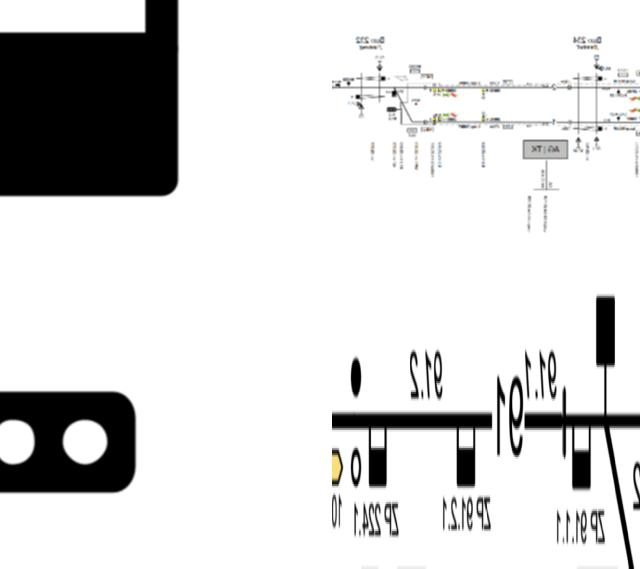mainsignal: (386, 106, 402, 112)
radzaehler: (0, 0, 203, 204), (486, 368, 527, 473), (452, 399, 478, 497), (570, 402, 594, 494), (366, 403, 389, 497), (336, 84, 340, 88)
trackjoint: (422, 85, 428, 91), (567, 84, 571, 90), (568, 120, 572, 124), (423, 120, 427, 124)
tracknumber: (551, 84, 557, 92), (552, 118, 556, 126)
weiche: (593, 280, 619, 432), (392, 87, 396, 97)
